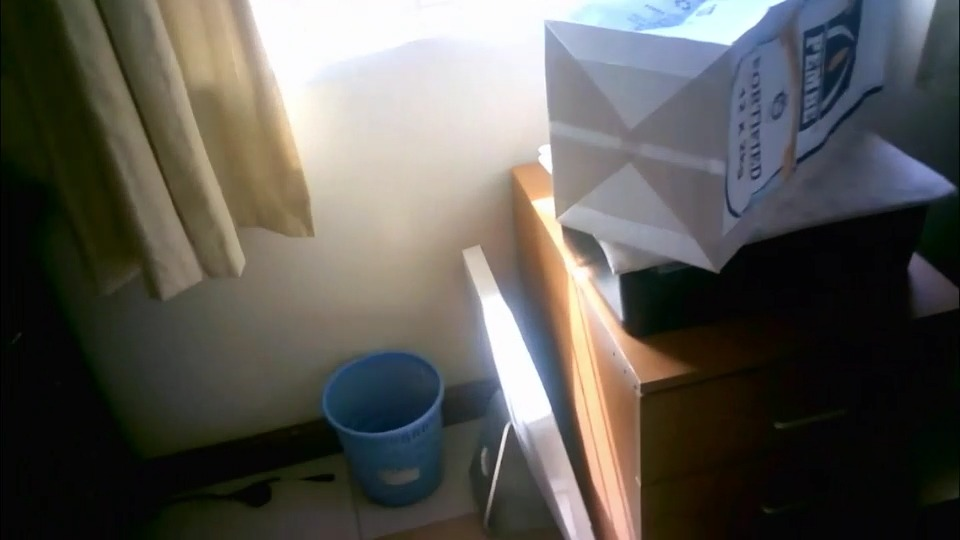wheat_flour_blue_label: (546, 4, 934, 268)
